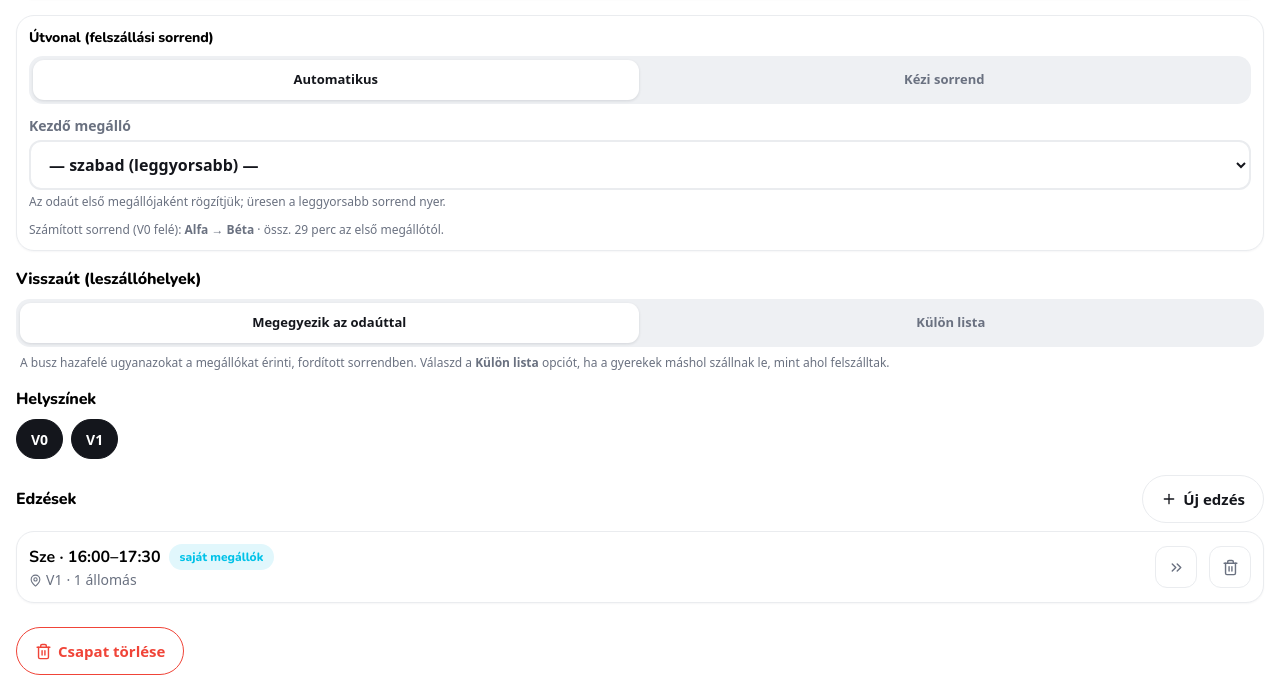
belépési pont: a csapat edzéslistája › az edzés sora megnyitja az edzés képernyőjét, és jelzi a saját listát
(page scrolled)
Click the button "Sze · 16:00–17:30 saját megállók V1 · 1 állomás": x=89, y=557 x1=29 y1=544 x2=1143 y2=590
(page scrolled)
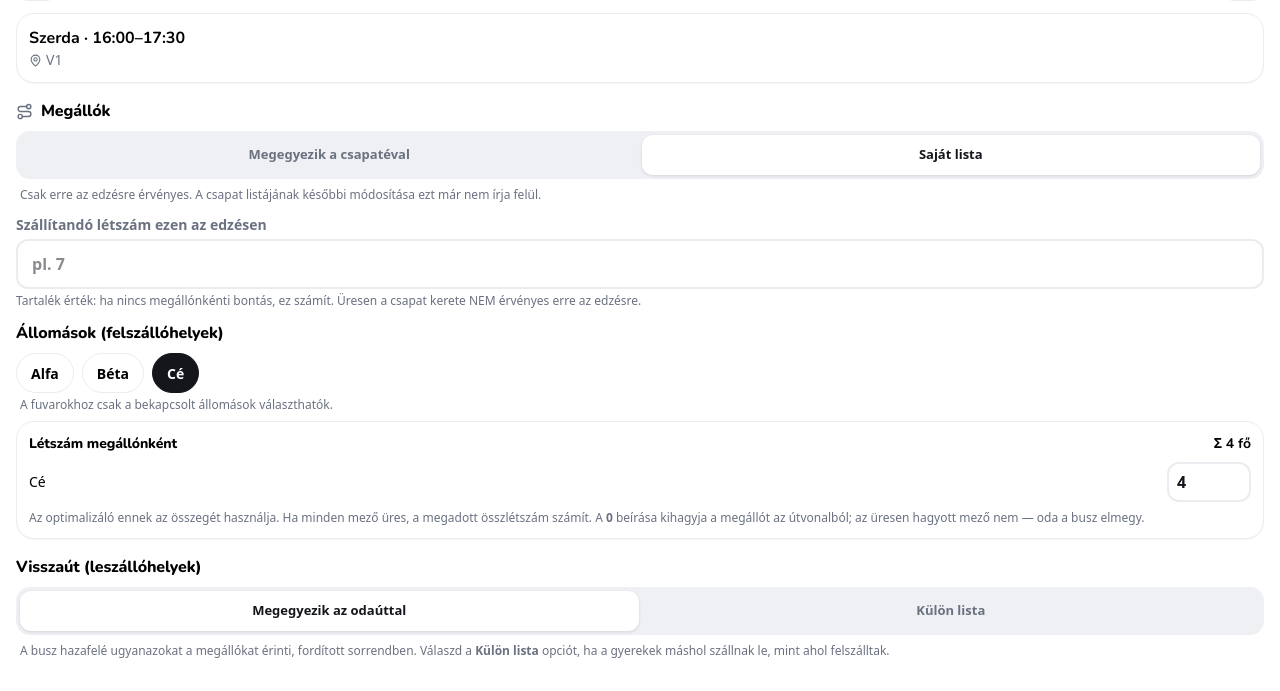
expect the text "Megegyezik a csapatéval" is shown: met, box x1=20 y1=135 x2=638 y2=175
